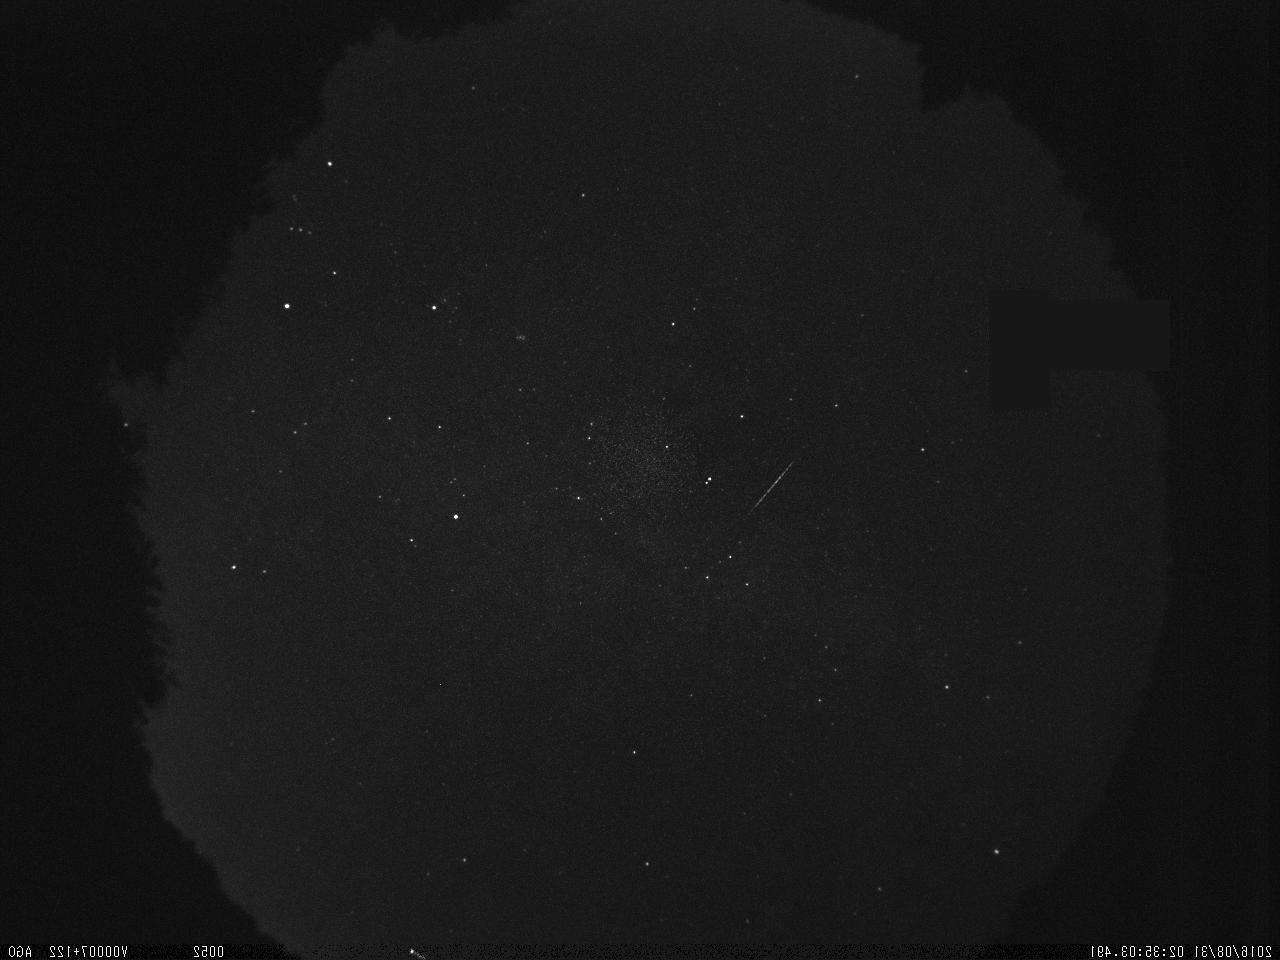meteor: (731, 441, 817, 532)
